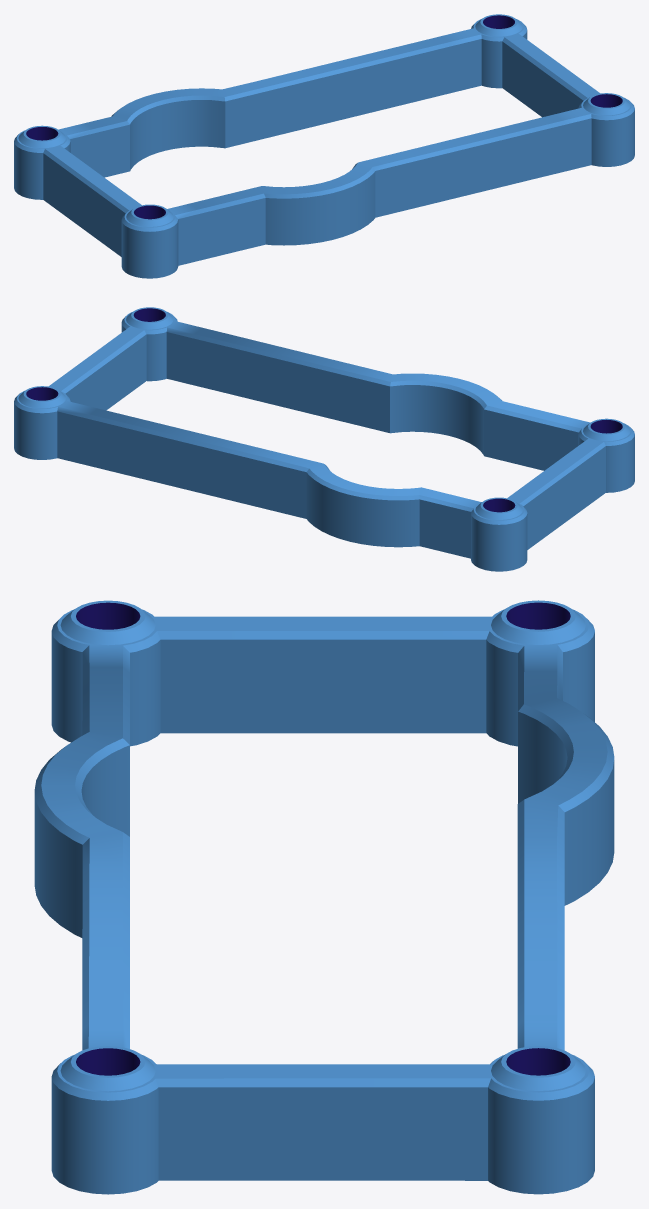
3 views of the same model, one above another, from view 1: azimuth 30°, elevation 25°; view 2: azimuth 150°, elevation 25°; view 3: azimuth 270°, elevation 25° (orthographic). The views are drawn at different scales.
Visible parts, largest first — view 1: Joint_0_Object_0; view 2: Joint_0_Object_0; view 3: Joint_0_Object_0.
Part boxes in pixels (x1=…): Joint_0_Object_0: x1=14, y1=14, x2=634, y2=278; Joint_0_Object_0: x1=14, y1=307, x2=634, y2=571; Joint_0_Object_0: x1=34, y1=600, x2=614, y2=1194.
Size of the model in its own units: 967 by 99.46 by 480.
